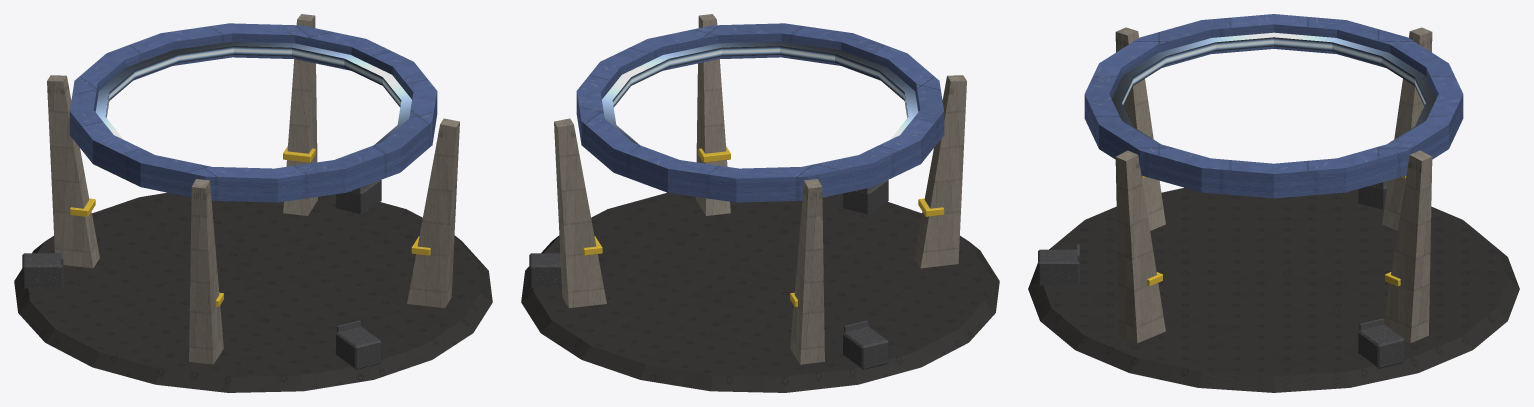
Rendered from warpgate_auc.obj.
3 views of the same model, side by side, from view 1: azimuth 30°, elevation 25°; view 2: azimuth 150°, elevation 25°; view 3: azimuth 270°, elevation 25° (orthographic). The views are drawn at different scales.
Visible parts, largest first — view 1: warpgate_auc; view 2: warpgate_auc; view 3: warpgate_auc.
Part boxes in pixels (left/top/right/bottom): warpgate_auc: left=14, top=14, right=492, bottom=392; warpgate_auc: left=521, top=14, right=999, bottom=392; warpgate_auc: left=1028, top=14, right=1519, bottom=392.
Size of the model in its own units: 40 by 18.1 by 40.
1 material, 1 textured.
